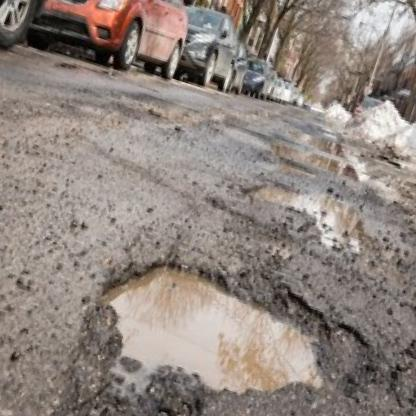pothole: (67, 227, 358, 416)
